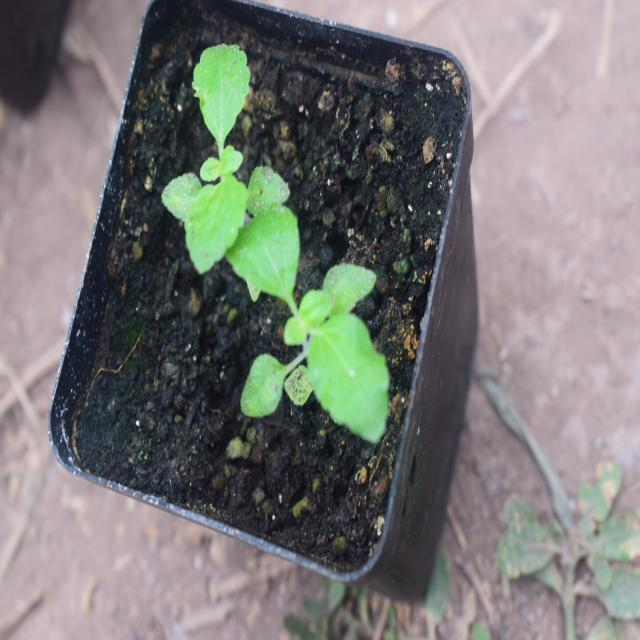billygoat_weed: (198, 198, 391, 431), (148, 0, 266, 290)
